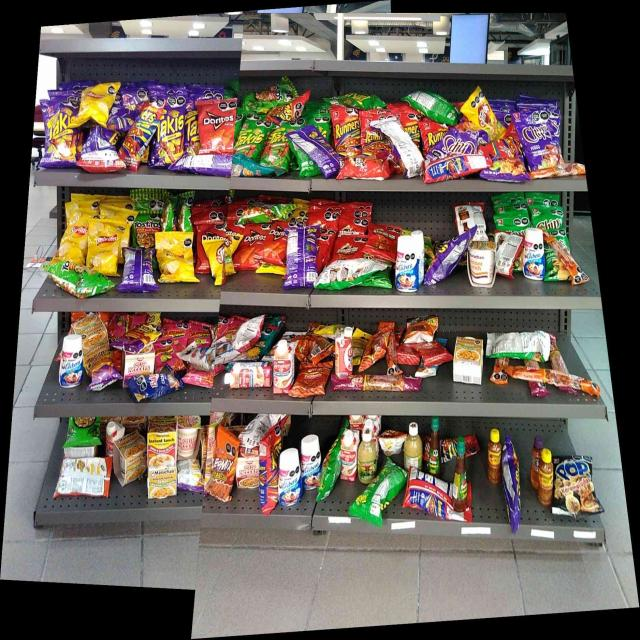bitzEnchilado90: (296, 362, 328, 395), (420, 344, 450, 362)
bitzEnchilado95: (510, 366, 596, 389), (555, 240, 587, 284), (532, 164, 583, 178)
bitzHabanero: (334, 376, 420, 392)
bokadosCacahuates: (130, 374, 179, 396)
botaneraChilito: (538, 448, 553, 508), (487, 428, 501, 486)
cheetosFlaminHot: (119, 325, 158, 349), (88, 359, 116, 390)
chipsFuego: (518, 111, 559, 164), (437, 126, 480, 153)
churrumais: (158, 339, 180, 371), (192, 320, 211, 346), (164, 319, 191, 337)
delPrimoSalsa: (404, 422, 422, 466), (358, 428, 377, 468)
doritosNacho: (199, 100, 234, 152), (238, 224, 261, 270), (262, 224, 286, 263)
fritosLimon: (469, 91, 494, 124)
leoCacahuates: (185, 347, 214, 368)
leoMix: (210, 439, 238, 500)
maruchanPollo: (454, 336, 483, 383), (117, 438, 146, 483), (84, 318, 108, 354), (148, 468, 177, 497)
maruchanRes: (148, 422, 176, 466)
nestleCarnation: (225, 362, 272, 387), (274, 341, 293, 392), (335, 326, 353, 376), (340, 431, 357, 480), (106, 422, 116, 456)
nestleLechera: (59, 334, 82, 388), (396, 236, 418, 292), (279, 448, 300, 505), (524, 227, 546, 280), (302, 434, 321, 488)
popKarameladas: (556, 456, 596, 514)
productoAtras: (360, 468, 404, 518), (56, 458, 110, 496), (408, 468, 450, 516), (388, 118, 419, 175), (287, 228, 316, 286), (296, 130, 334, 174), (488, 332, 550, 358), (430, 239, 465, 285), (320, 262, 380, 288), (424, 155, 482, 181), (503, 440, 518, 530), (125, 249, 153, 291), (456, 202, 486, 238), (239, 415, 268, 451), (362, 328, 388, 367), (497, 233, 521, 275), (235, 315, 263, 349), (185, 156, 232, 176), (412, 89, 448, 113), (296, 336, 329, 360), (178, 460, 202, 490), (380, 432, 402, 455)
rancheritos: (368, 222, 395, 261), (344, 157, 386, 181), (333, 236, 365, 260)
runners: (126, 103, 158, 166), (337, 109, 359, 155)
sabritasOriginal: (158, 233, 194, 282), (89, 218, 118, 271), (58, 213, 88, 261), (81, 86, 108, 124)
salsaBufalo: (452, 436, 468, 512), (429, 416, 441, 466)
takisFuego: (43, 99, 76, 167), (160, 101, 184, 163)
takisOriginal: (238, 116, 264, 160), (268, 127, 289, 171)
tostitos: (247, 83, 293, 106), (133, 212, 158, 248), (48, 264, 88, 285)
